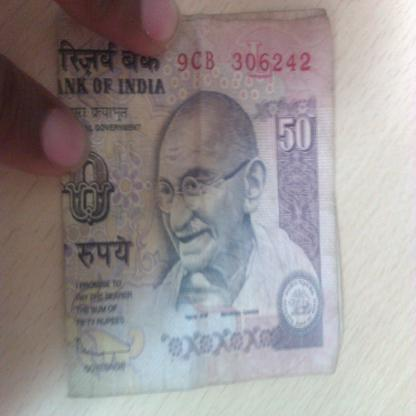Old50Front: (55, 8, 344, 400)
